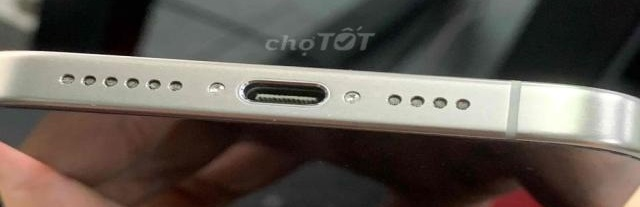scratch: (47, 56, 57, 62), (325, 113, 335, 118)
